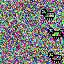sheep: (47, 27, 63, 40), (47, 51, 63, 64), (41, 8, 55, 20)
